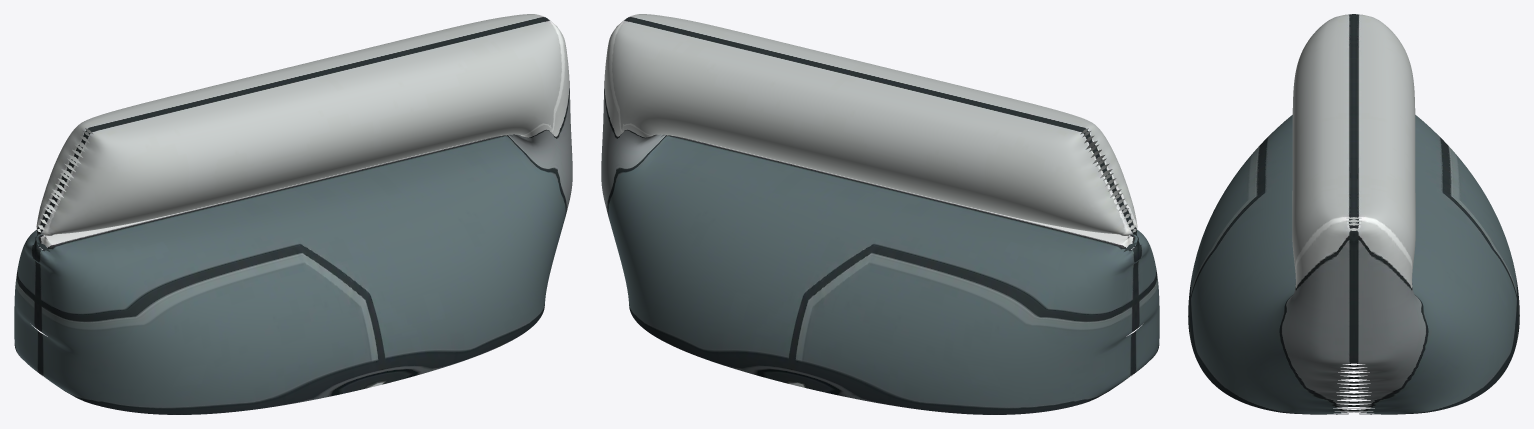
Rendered from platform_girder.glb.
3 views of the same model, side by side, from view 1: azimuth 30°, elevation 25°; view 2: azimuth 150°, elevation 25°; view 3: azimuth 270°, elevation 25° (orthographic). The views are drawn at different scales.
Parts seen in each view (by area): view 1: platform_girder; view 2: platform_girder; view 3: platform_girder.
Part boxes in pixels (bbox=[...]): platform_girder: bbox=[14, 14, 572, 414]; platform_girder: bbox=[601, 14, 1159, 414]; platform_girder: bbox=[1188, 14, 1519, 414].
Bounding box in the file's own units: 0.9896 × 0.4307 × 0.6002.
Materials: 1 (1 with a texture image).
